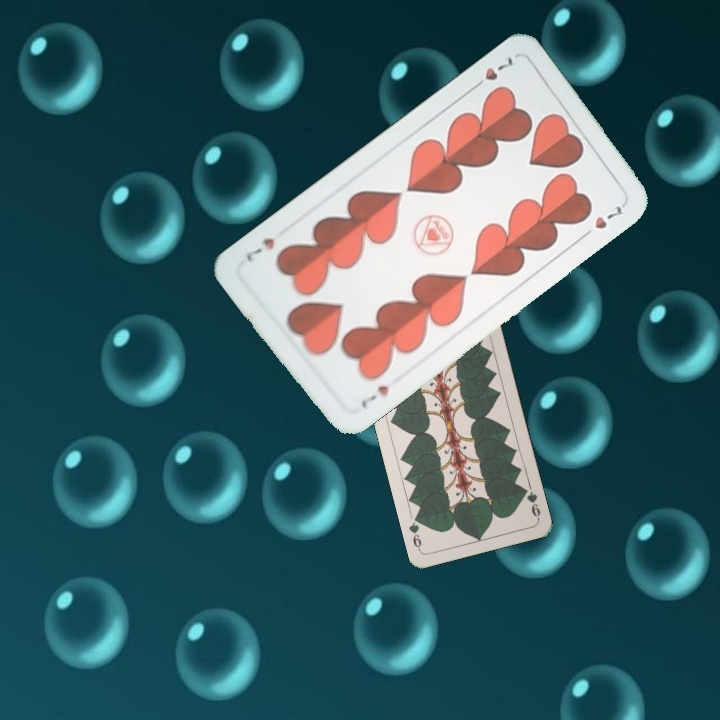G9: (518, 484, 543, 522)
H7: (467, 52, 519, 93), (356, 381, 392, 411)
